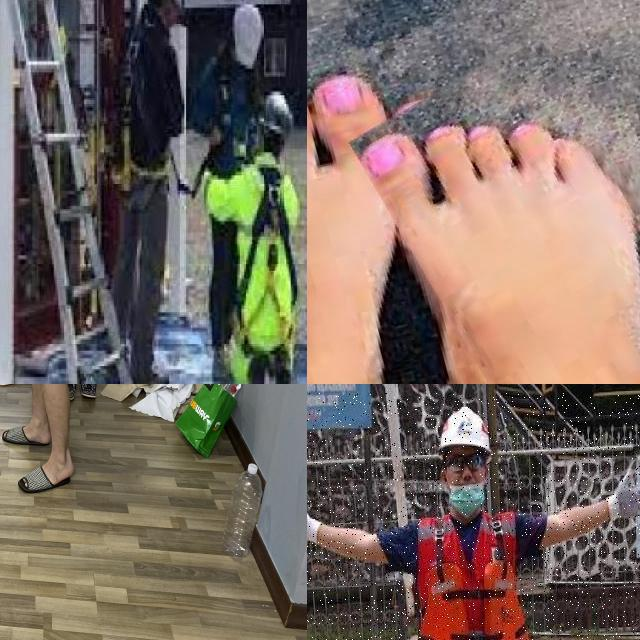Barefoots: (360, 21, 640, 384), (307, 54, 480, 384)
Harness: (230, 157, 298, 384)
Sandals: (14, 454, 86, 499), (0, 420, 60, 455)
head_helmet: (437, 407, 490, 455)
person: (307, 393, 640, 640)
vest: (417, 511, 530, 640)
